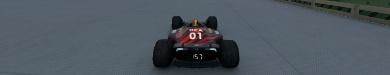Car: (152, 15, 239, 68)
obstacles-Borders: (273, 0, 389, 29)
